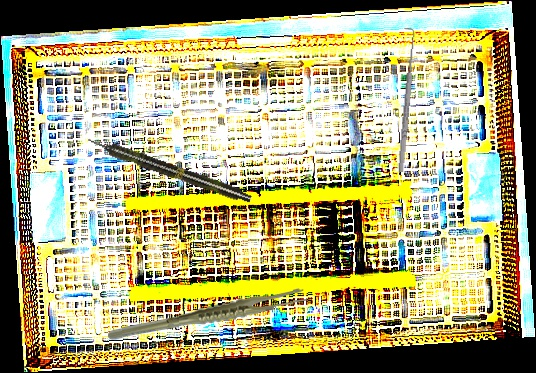Handpiece: (85, 132, 254, 207)
Hook Surgical: (391, 27, 419, 173)
Tissue Forceps: (107, 288, 308, 341)
